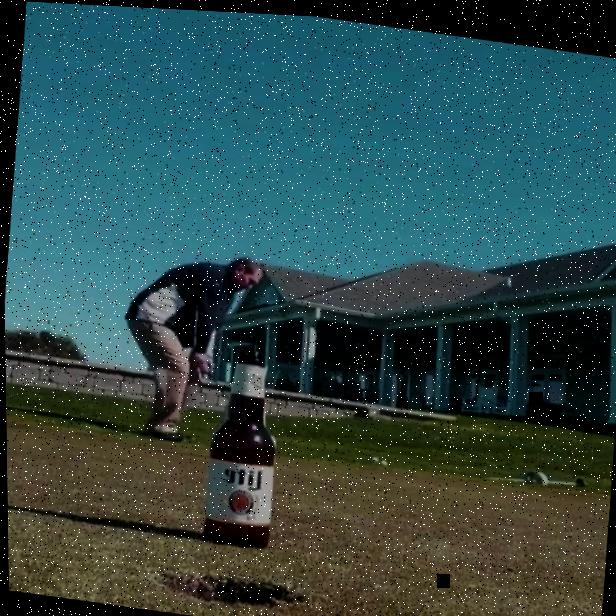GolfBall: (377, 454, 387, 463), (370, 452, 377, 459)
